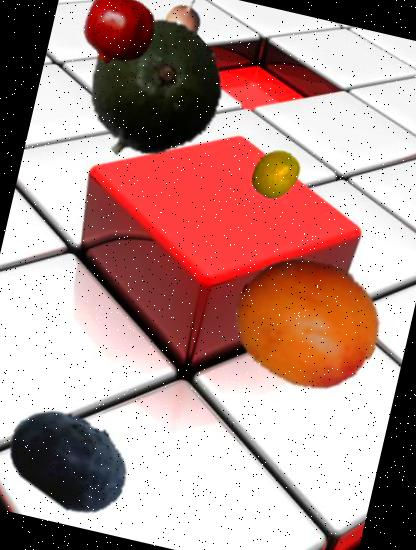Apricot: (220, 234, 394, 408)
Avocado: (68, 6, 238, 176)
Blueberry: (0, 384, 144, 534)
Granadilla: (156, 0, 218, 49)
Maracuja: (245, 143, 306, 206)
Pomegranate: (76, 0, 162, 72)
